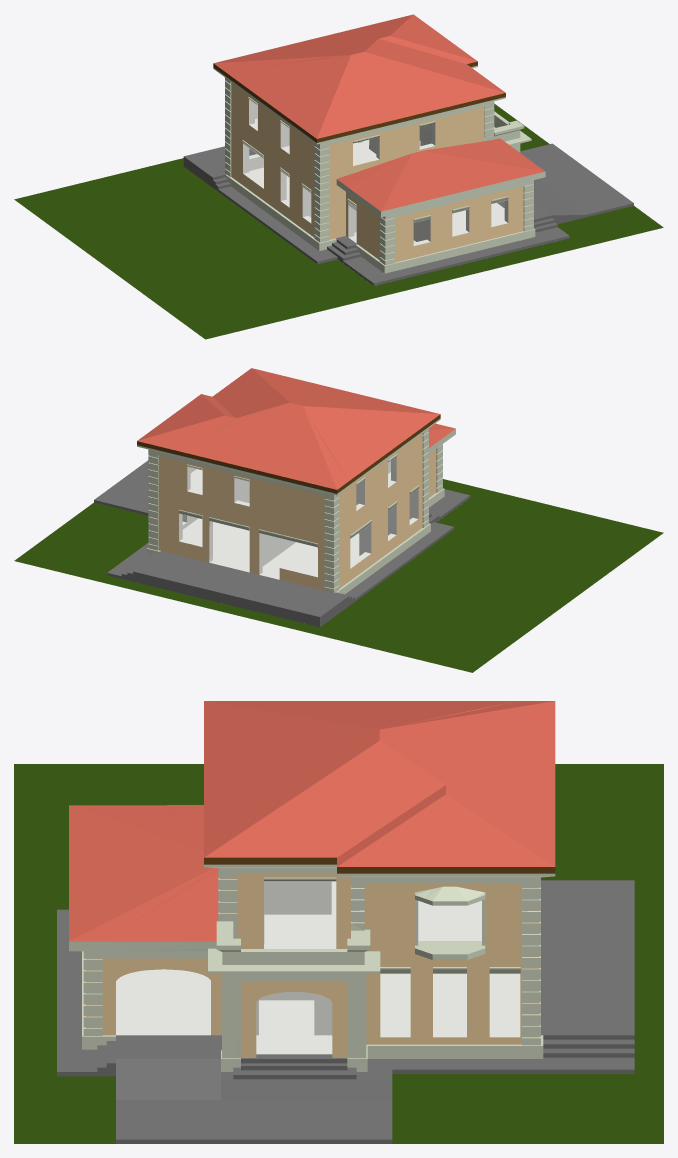
Rendered from casaStolnicu_outerShell.glb.
The picture shows the model from 3 angles, top to bottom: view 1: azimuth 30°, elevation 25°; view 2: azimuth 150°, elevation 25°; view 3: azimuth 270°, elevation 25°; orthographic projection. The views are drawn at different scales.
Parts seen in each view (by area): view 1: Plane, Plane.003; view 2: Plane, Plane.003; view 3: Plane, Plane.003.
Boxes of the visible parts, bbox=[...] form: Plane: bbox=[14, 14, 663, 339]; Plane.003: bbox=[243, 99, 508, 245]; Plane: bbox=[14, 368, 663, 672]; Plane.003: bbox=[179, 456, 418, 579]; Plane: bbox=[14, 701, 663, 1143]; Plane.003: bbox=[116, 881, 538, 1054].
Bounding box in the file's own units: 28.4 × 8.51 × 20.53.
